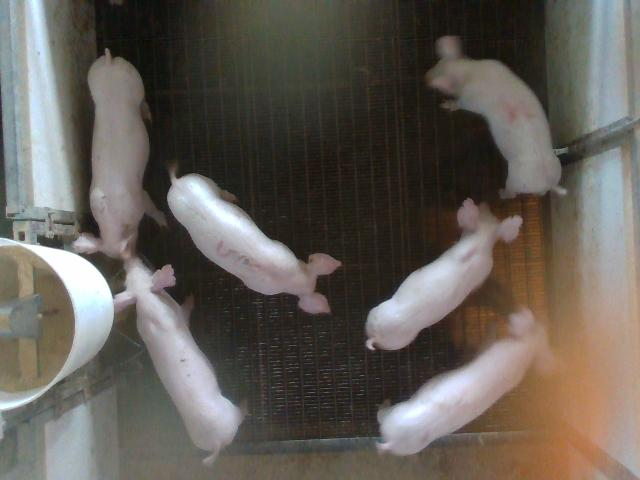pig-3: (169, 169, 341, 313)
pig-4: (428, 36, 566, 198)
